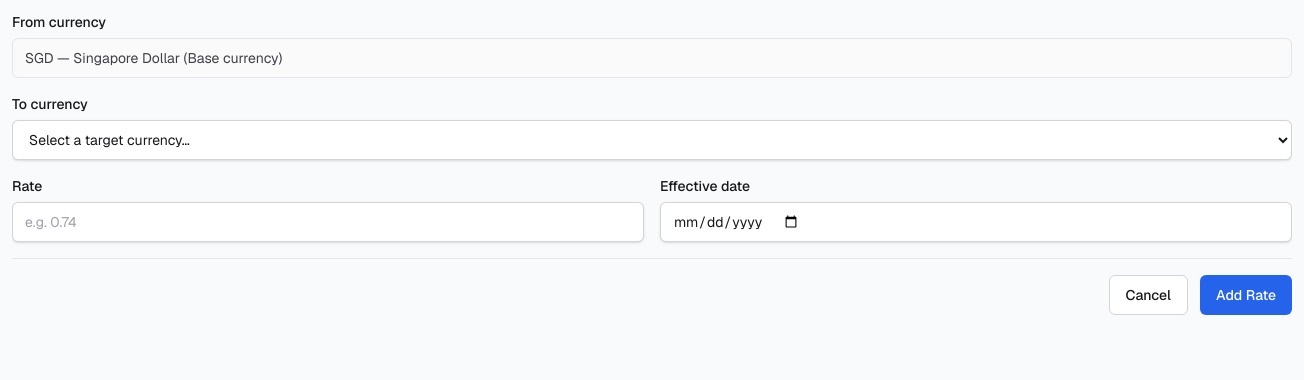
ExchangeRateForm › shows a validation error and does not submit when required fields are missing
Check: the text "SGD — Singapore Dollar (Base currency)" is shown, box top-left (12, 38), bottom-right (1292, 78)
Click the button "Add Rate" at (1246, 295), box top-left (1200, 275), bottom-right (1292, 315)
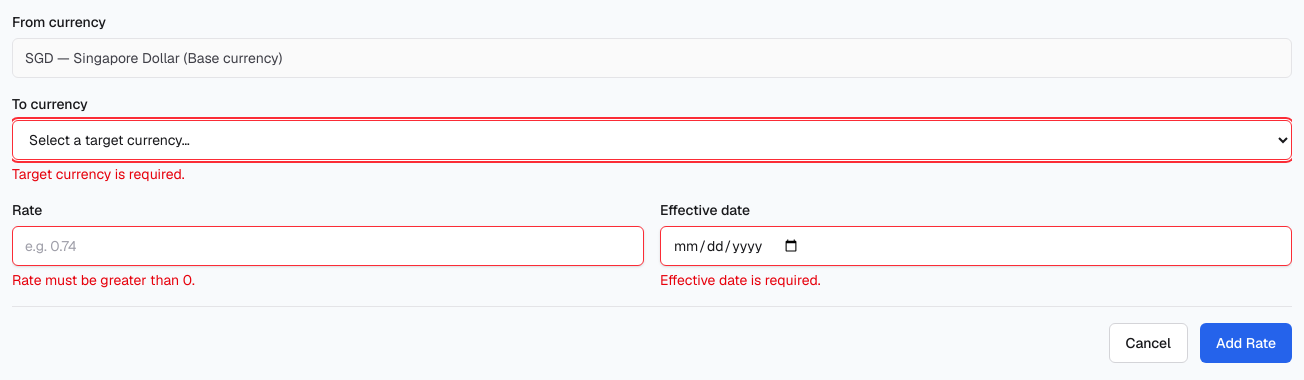
Check: the text "Target currency is required." is shown, box top-left (12, 165), bottom-right (185, 183)
